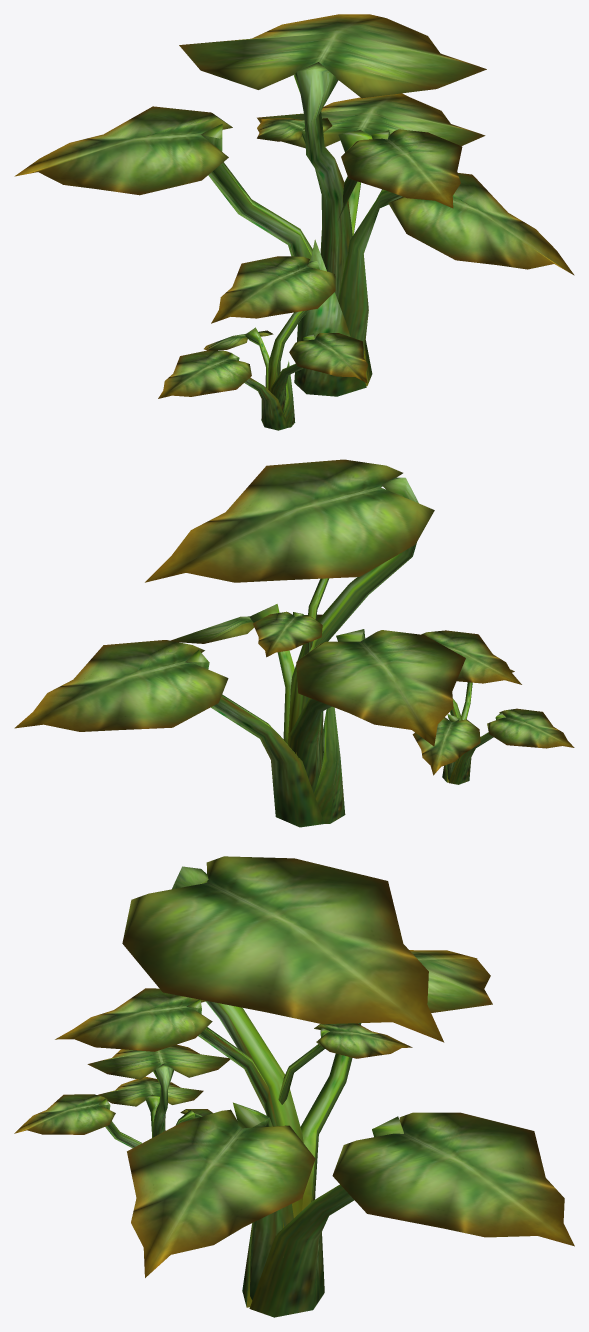
File: n_duckweed01.glb
The picture shows the model from 3 angles, top to bottom: view 1: azimuth 30°, elevation 25°; view 2: azimuth 150°, elevation 25°; view 3: azimuth 270°, elevation 25°; orthographic projection. The views are drawn at different scales.
Visible parts, largest first — view 1: n_duckweed01; view 2: n_duckweed01; view 3: n_duckweed01.
Part boxes in pixels (box(x1,y1,x2,y2)): n_duckweed01: box(14, 14, 574, 430); n_duckweed01: box(14, 459, 574, 827); n_duckweed01: box(14, 856, 574, 1317).
Bounding box in the file's own units: 4.3 × 3.37 × 4.32.
Materials: 1 (1 with a texture image).
